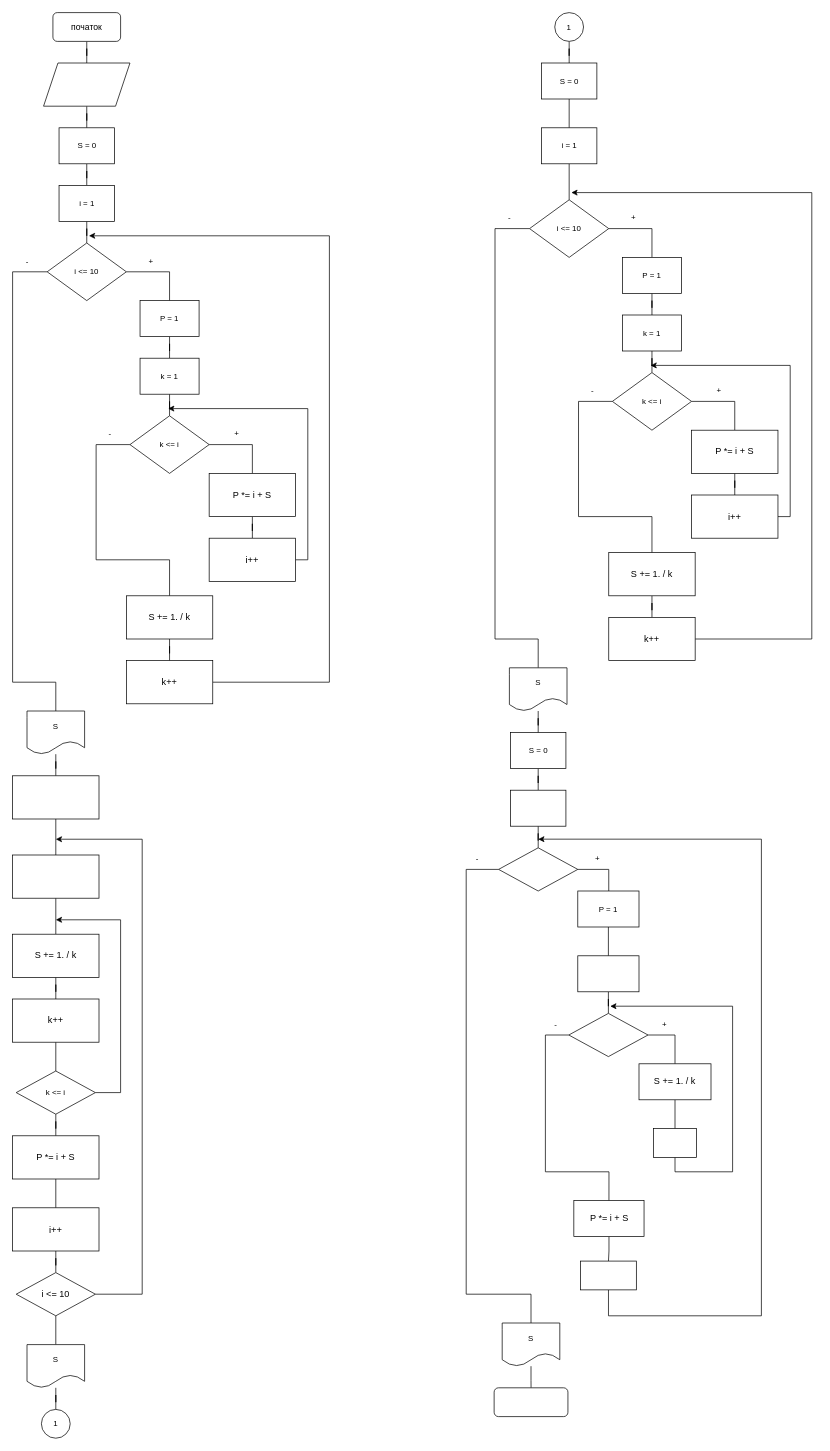
The diagram is 830 pixels wide and 1451 high, and some of its shapes have lost their labels. The shapes that lost their labels are listed below. From the top down, each one's box as (x1, y1, x2, y2) in pixels, then its label:
(43, 62, 130, 106): P, S, i, k
(12, 775, 99, 819): P = 1, i=1
(510, 789, 566, 826): i = 10
(12, 854, 99, 898): S = 0, k= 1
(498, 847, 578, 891): i >= 1
(577, 955, 639, 992): k = i
(568, 1013, 648, 1057): k >= 1
(653, 1128, 697, 1157): k--
(580, 1260, 636, 1290): i--
(493, 1387, 568, 1417): кінець
